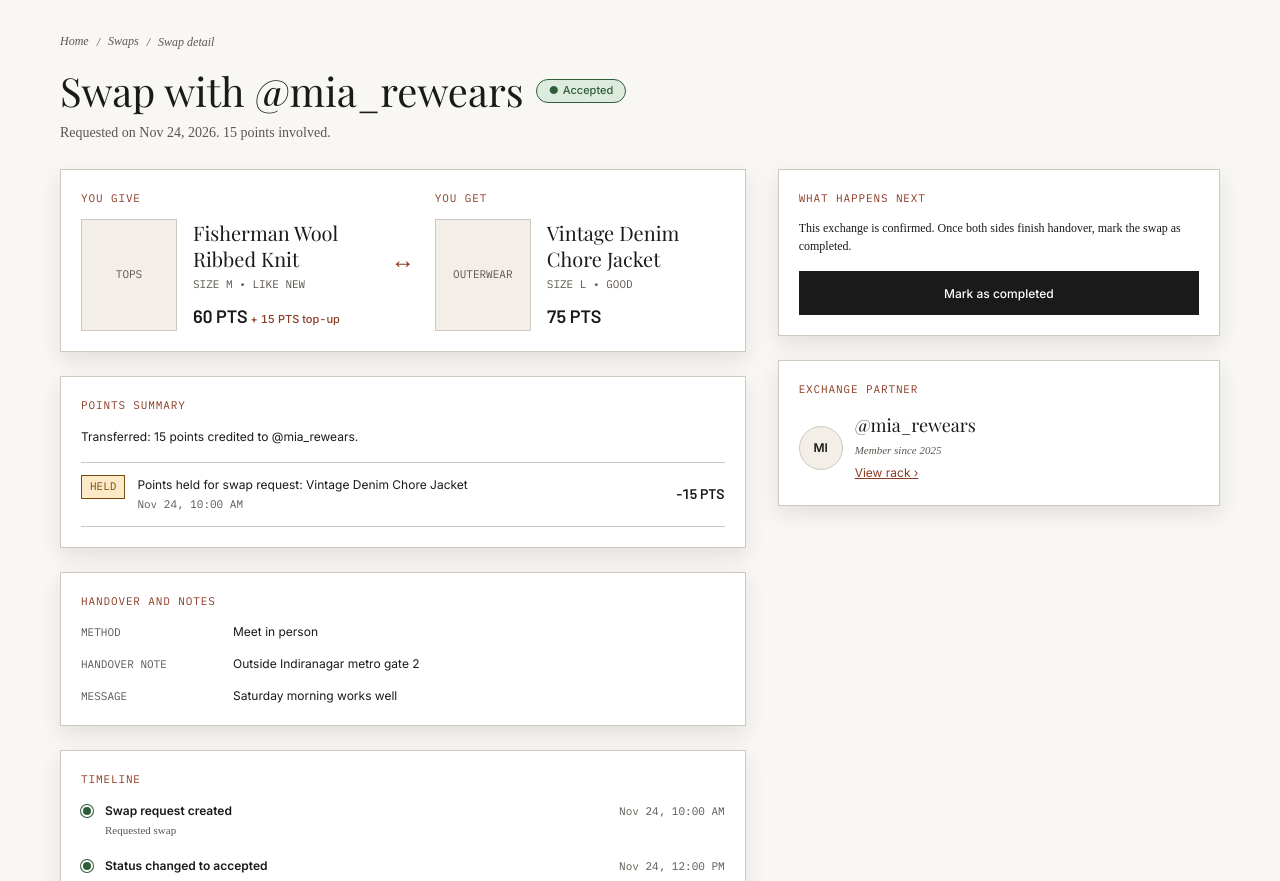
Test: SwapDetailPage role and state actions › shows Mark as completed on accepted swap for requester and owner, and renders read-only once completed
Step 1. Click the button "Mark as completed" → coordinates (999, 293), box [799,271,1199,315]
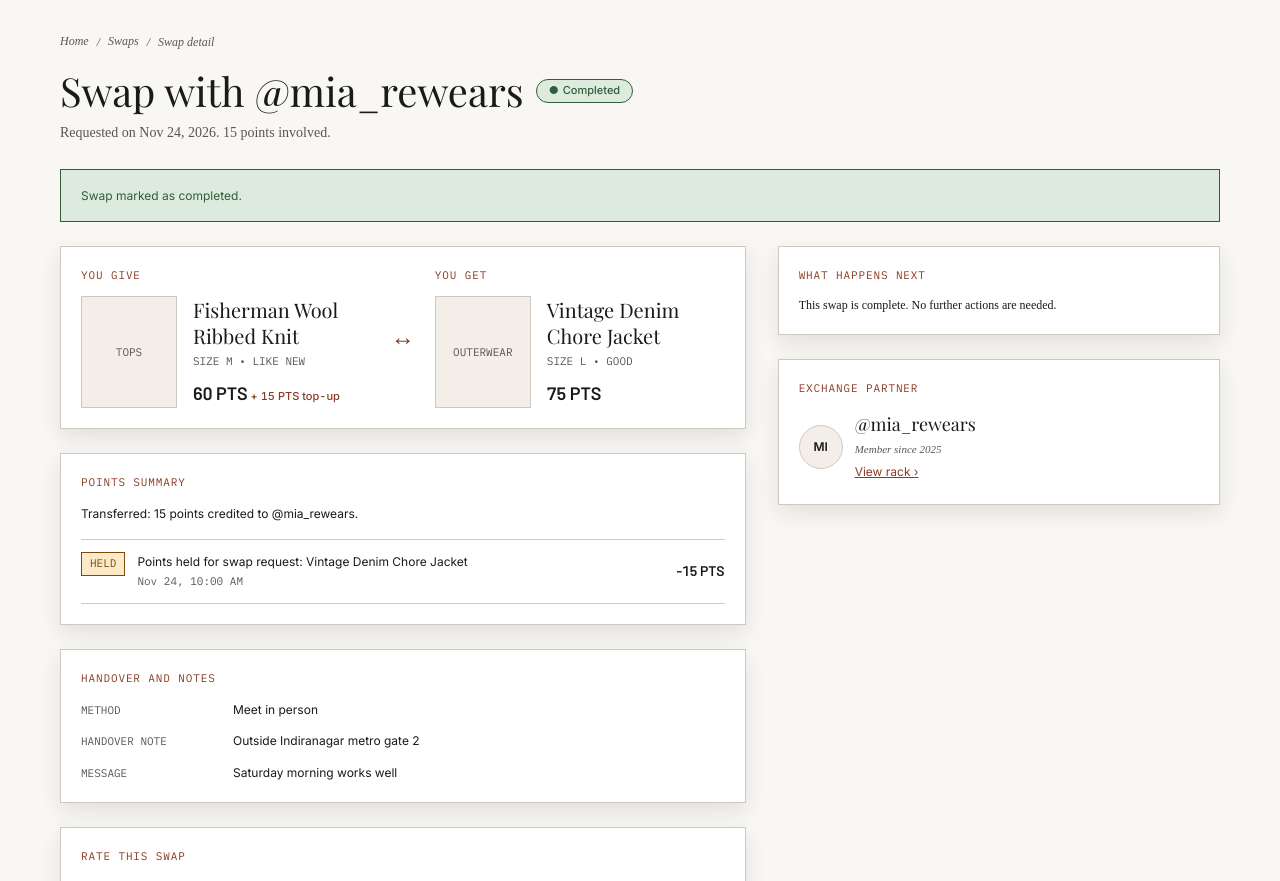
Expected: the button "Mark as completed" is gone
Expected: the text "Completed" is shown, [563,82,620,100]
